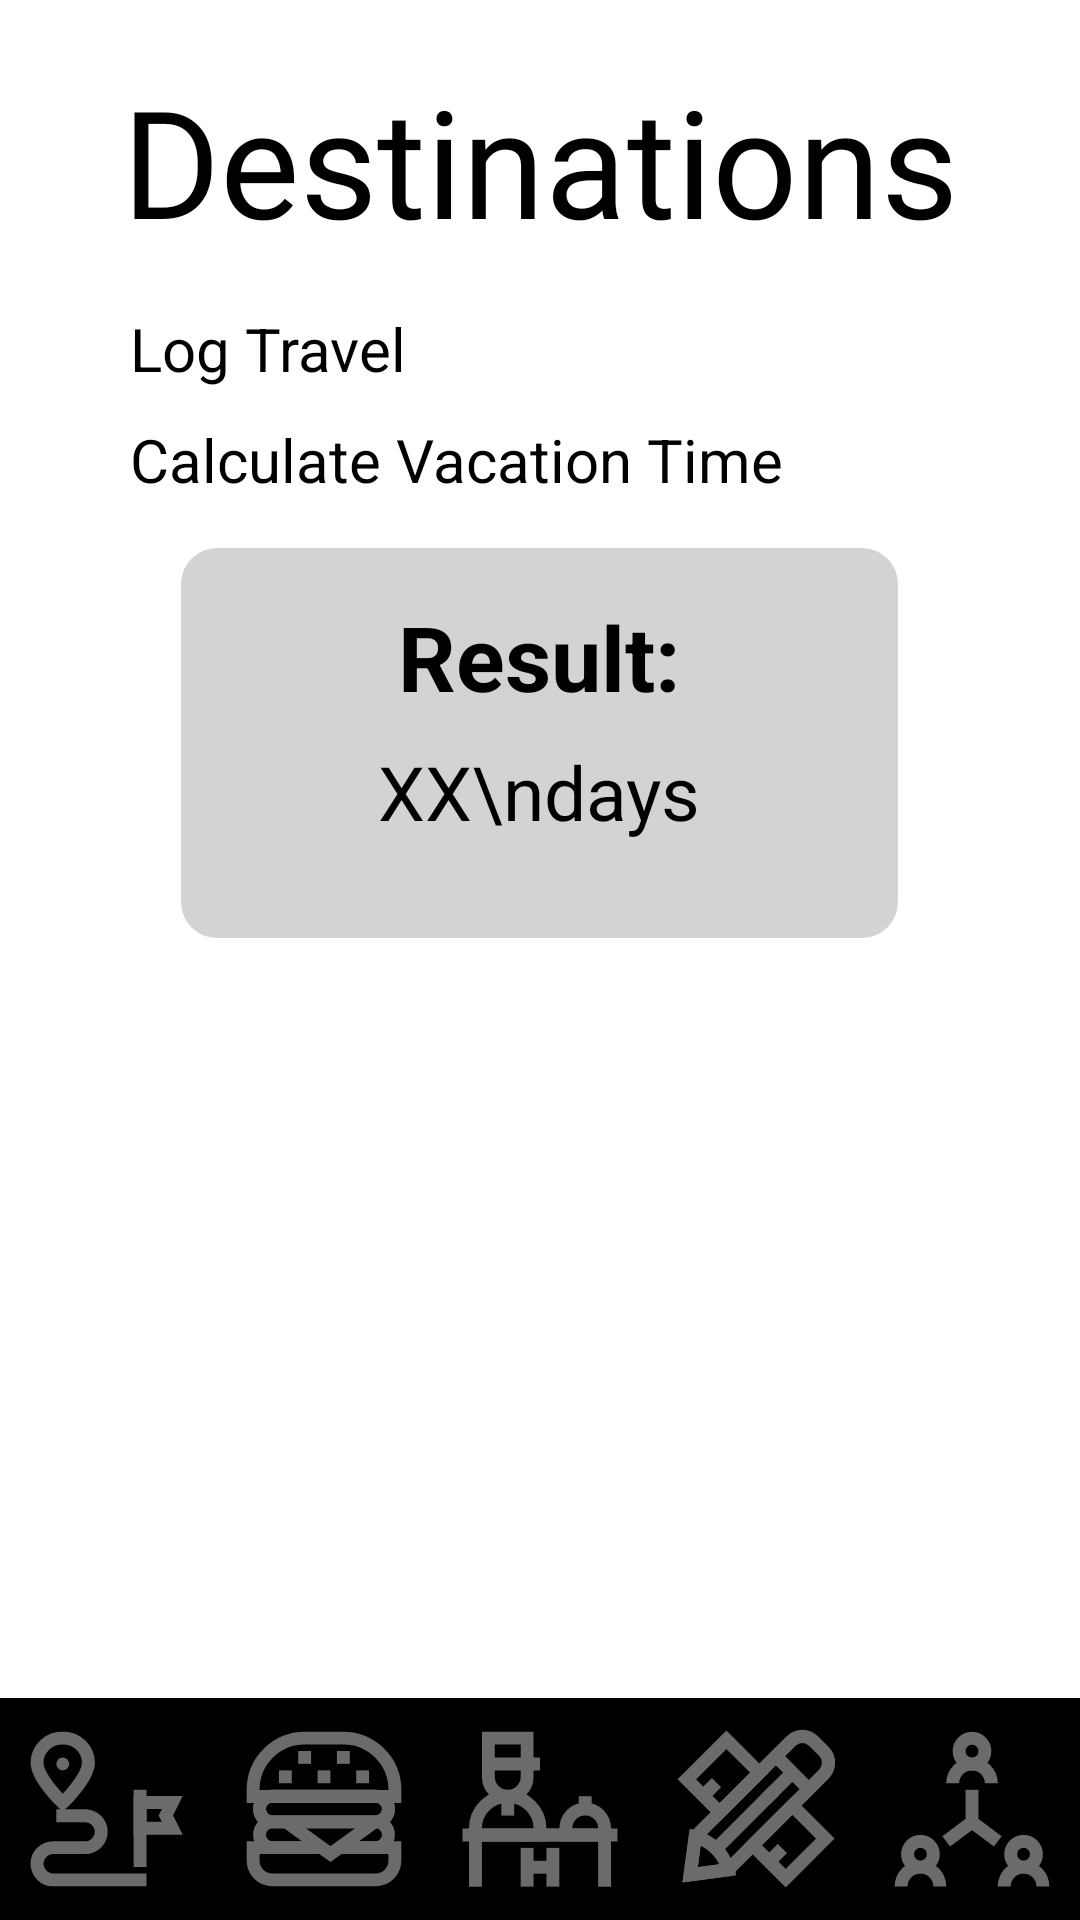

Named icons in this screenshot (1080x1920) and their bounding boxes, bbox=(x1, y1, x2, y2):
accommodations: bbox=(462, 1731, 618, 1887)
destinations: bbox=(30, 1731, 183, 1887)
dining establishments: bbox=(246, 1731, 402, 1887)
travel community: bbox=(894, 1732, 1050, 1887)
